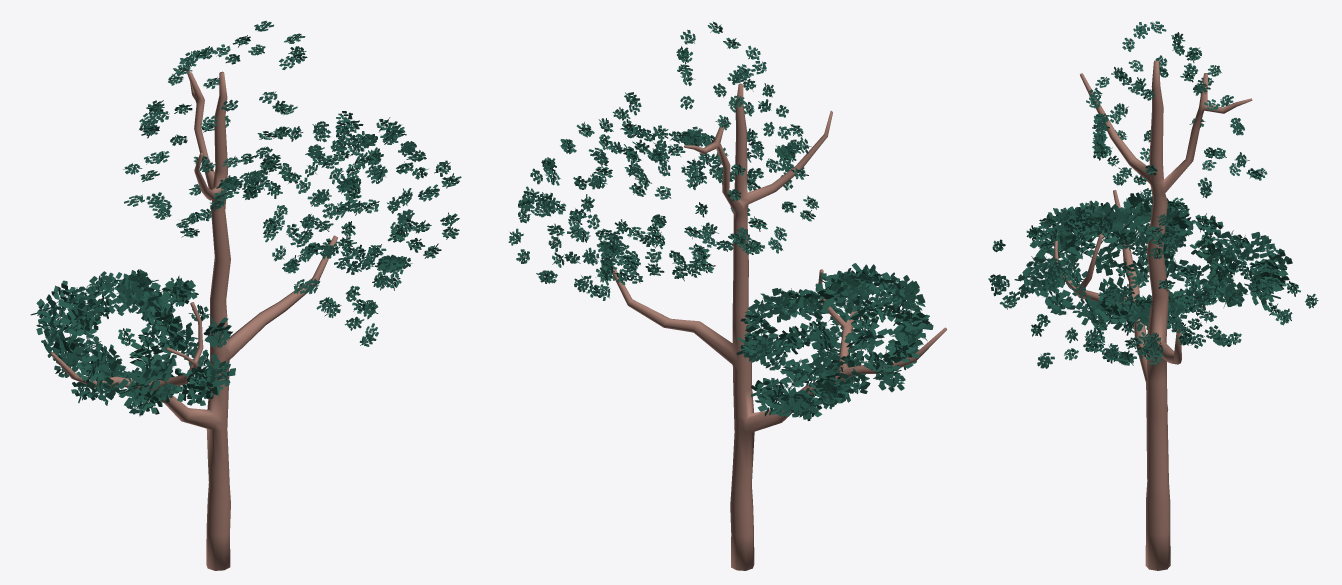
File: Sacred_Tree_ArenaForest_1.fbx
3 renders of one model, left to right at view 1: azimuth 30°, elevation 25°; view 2: azimuth 150°, elevation 25°; view 3: azimuth 270°, elevation 25°, orthographic. The views are drawn at different scales.
Parts seen in each view (by area): view 1: AncientTree; view 2: AncientTree; view 3: AncientTree.
Boxes of the visible parts, x1,y1,x2,y2 form: AncientTree: (30,20,461,570); AncientTree: (508,21,946,570); AncientTree: (988,21,1318,570).
Bounding box in the file's own units: 308 × 392 × 220.
